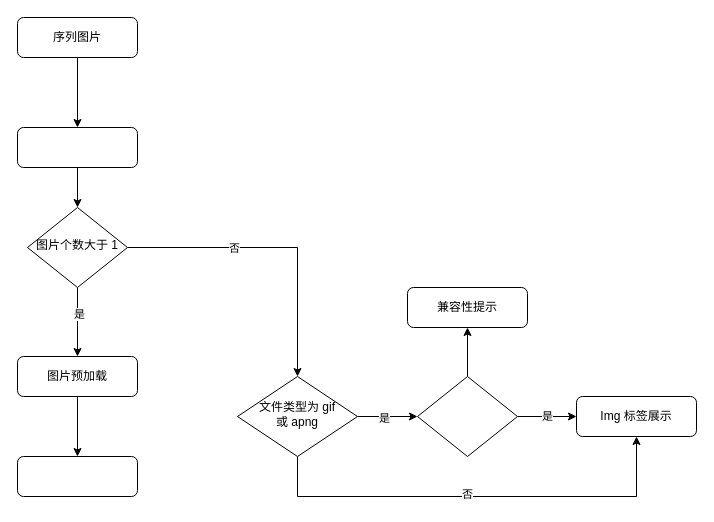
The diagram is 714 pixels wide and 522 high, and some of its shapes have lost their labels. The shapes that lost their labels are listed below. From the top down, each one's centre as x and y in pixels, then its label:
(x=77, y=147): 图片合法性检测
(x=467, y=416): 浏览器兼容？
(x=77, y=476): 图片切换显示
